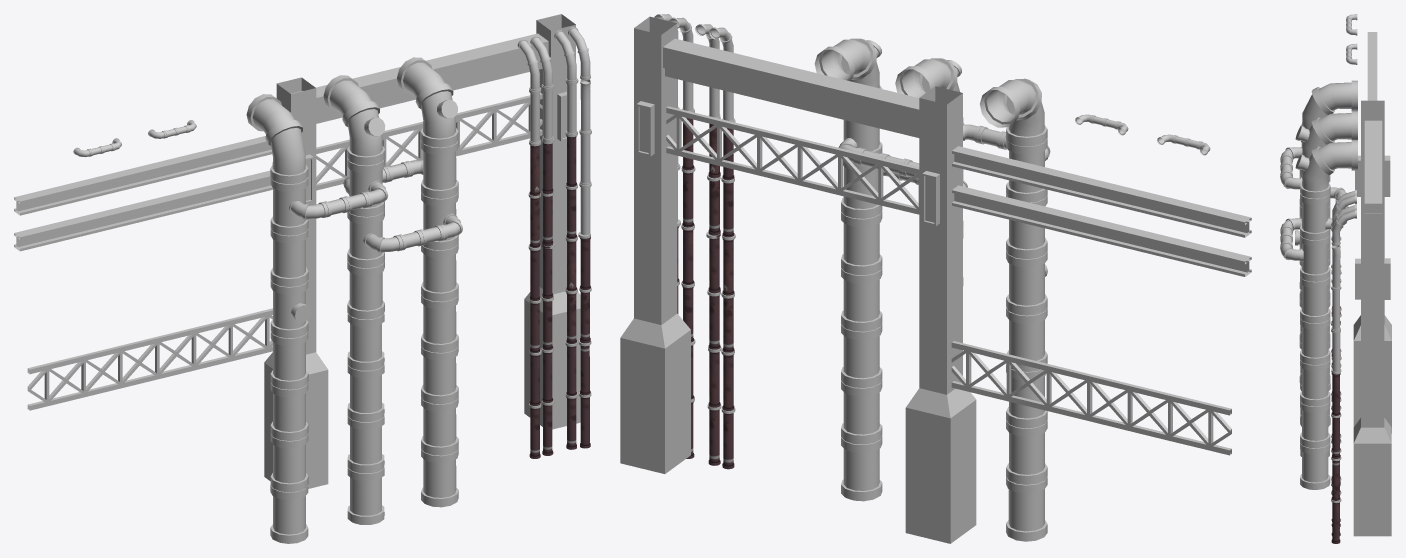
Rendered from Lower_Structure_Bridge.fbx.
3 views of the same model, side by side, from view 1: azimuth 30°, elevation 25°; view 2: azimuth 150°, elevation 25°; view 3: azimuth 270°, elevation 25° (orthographic). The views are drawn at different scales.
Parts seen in each view (by area): view 1: Big_Tube002, Lower_Structure_Column_A_024, Big_Tube_Curved003, Small_Tube002, Lower_Structure_Cross_Beams002, Lower_Structure_Beam002, Lower_Structure_Column_Top004, Small_Tube_Curved002, Small_Tube_Connector021, Small_Tube_Broken002, Tube_Cap001; view 2: Lower_Structure_Column_A_024, Big_Tube002, Lower_Structure_Cross_Beams002, Lower_Structure_Beam002, Lower_Structure_Column_Top004, Small_Tube002, Big_Tube_Curved003, Small_Tube_Curved002, Small_Tube_Connector021; view 3: Lower_Structure_Column_A_024, Big_Tube002, Big_Tube_Curved003, Lower_Structure_Column_Top004, Small_Tube002, Small_Tube_Curved002, Small_Tube_Broken002, Lower_Structure_Beam002, Tube_Cap001, Small_Tube_Connector021, Mediuml_Tube_Curved002.
Boxes of the visible parts, x1,y1,x2,y2 form: Big_Tube002: (270, 140, 458, 543); Lower_Structure_Column_A_024: (264, 14, 580, 488); Big_Tube_Curved003: (246, 57, 462, 253); Small_Tube002: (529, 136, 590, 458); Lower_Structure_Cross_Beams002: (27, 92, 542, 410); Lower_Structure_Beam002: (14, 136, 272, 251); Lower_Structure_Column_Top004: (291, 33, 548, 123); Small_Tube_Curved002: (517, 27, 590, 185); Small_Tube_Connector021: (528, 78, 591, 408); Small_Tube_Broken002: (580, 79, 590, 238); Tube_Cap001: (291, 100, 457, 322); Lower_Structure_Column_A_024: (620, 16, 976, 543); Big_Tube002: (841, 117, 1047, 541); Lower_Structure_Cross_Beams002: (666, 106, 1231, 455); Lower_Structure_Beam002: (952, 146, 1251, 276); Lower_Structure_Column_Top004: (663, 38, 919, 137); Small_Tube002: (677, 118, 734, 469); Big_Tube_Curved003: (814, 38, 1050, 187); Small_Tube_Curved002: (654, 14, 734, 167); Small_Tube_Connector021: (677, 107, 735, 413); Lower_Structure_Column_A_024: (1353, 100, 1391, 536); Big_Tube002: (1280, 141, 1348, 489); Big_Tube_Curved003: (1280, 80, 1357, 261); Lower_Structure_Column_Top004: (1364, 120, 1382, 213); Small_Tube002: (1331, 283, 1340, 543); Small_Tube_Curved002: (1331, 190, 1356, 330); Small_Tube_Broken002: (1331, 245, 1340, 374); Lower_Structure_Beam002: (1367, 32, 1377, 100); Tube_Cap001: (1295, 125, 1309, 245); Small_Tube_Connector021: (1330, 222, 1341, 503); Mediuml_Tube_Curved002: (1346, 14, 1357, 64).
Size of the model in its own units: 89.05 by 19.02 by 64.33.
